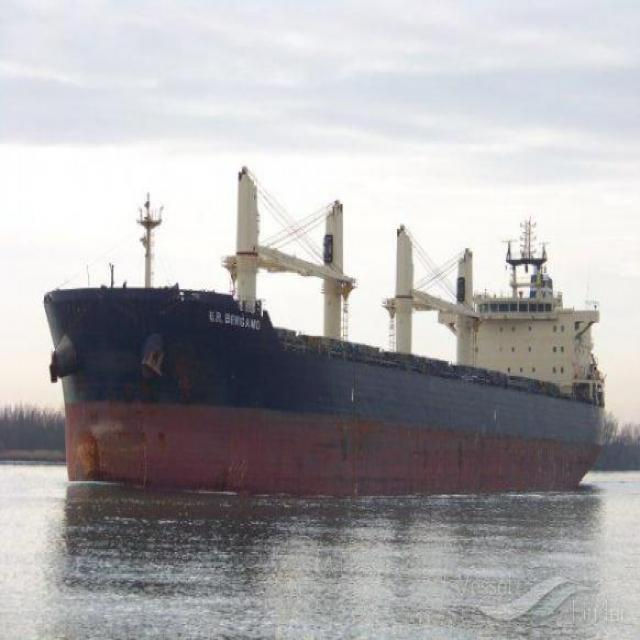OCR: (203, 303, 263, 331)
